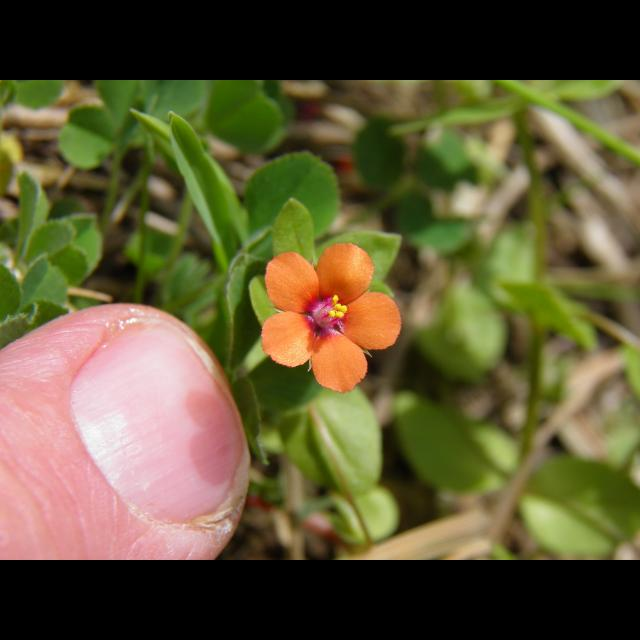Flower: (262, 244, 404, 392)
